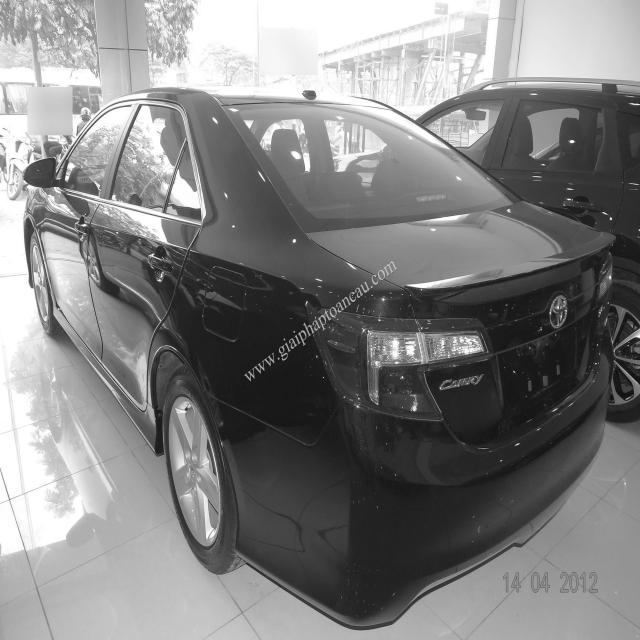car: (22, 84, 616, 628), (332, 76, 640, 419)
